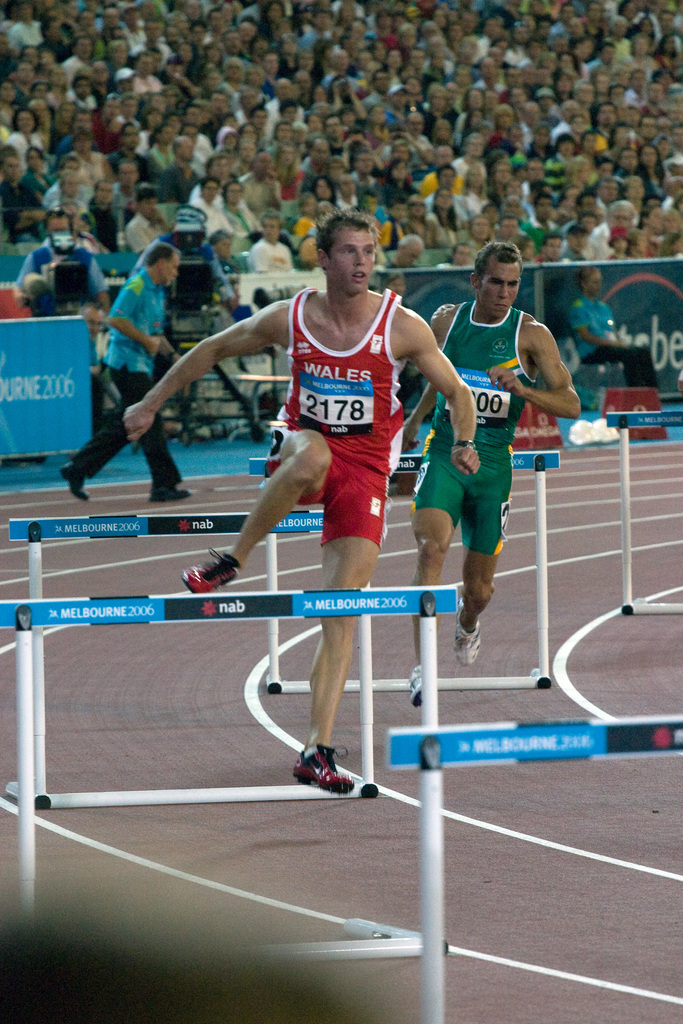Person: (0, 0, 683, 385)
